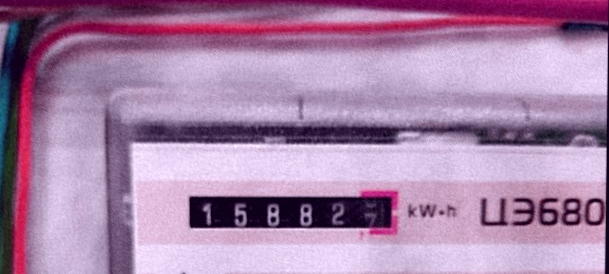1: (201, 201, 215, 226)
2: (331, 201, 346, 225)
5: (233, 200, 249, 227)
7: (364, 209, 378, 228)
8: (266, 202, 282, 228), (299, 201, 314, 226)
screen: (174, 180, 408, 246)
